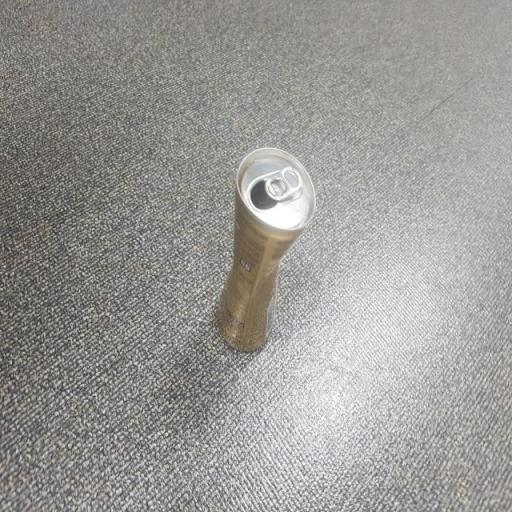metal: (197, 120, 331, 393)
